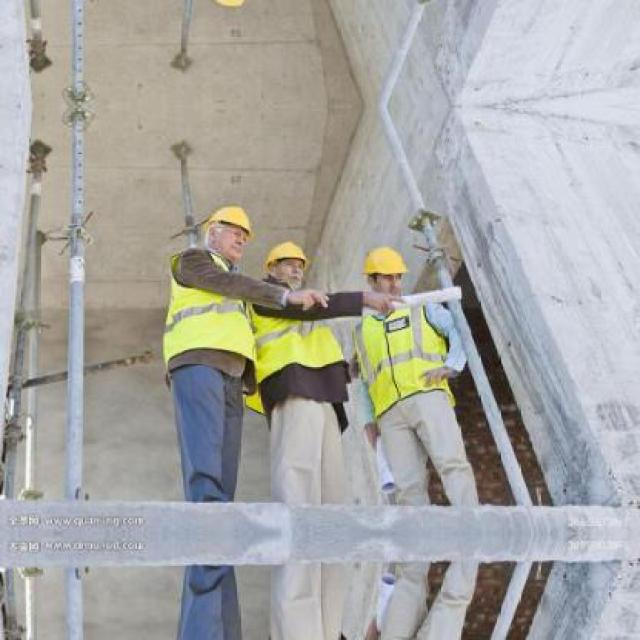helmet: (358, 240, 411, 301), (203, 200, 255, 261), (262, 238, 310, 288), (203, 0, 257, 14)
